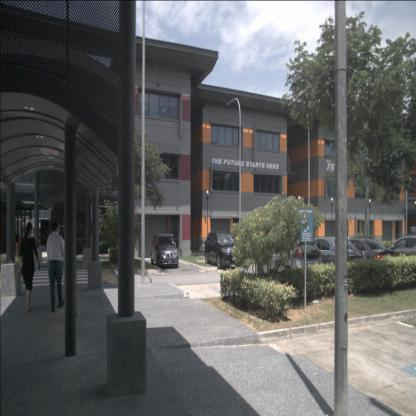cone: (15, 243, 19, 264)
